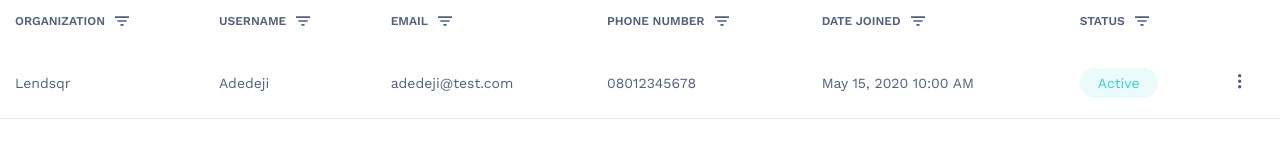
Test: UserTable Component › Negative Scenarios › closes the dropdown menu when clicking the ellipsis again
Click the button with alt text "more" at [1240, 83], box x1=1233 y1=69 x2=1247 y2=97
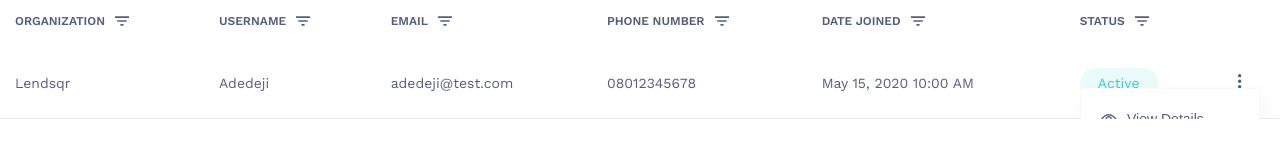
Click the button with alt text "more" at [1240, 83], box x1=1233 y1=69 x2=1247 y2=97
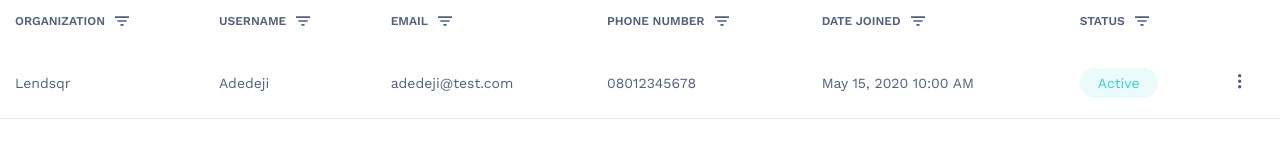
Expected: the button "View Details" is gone
